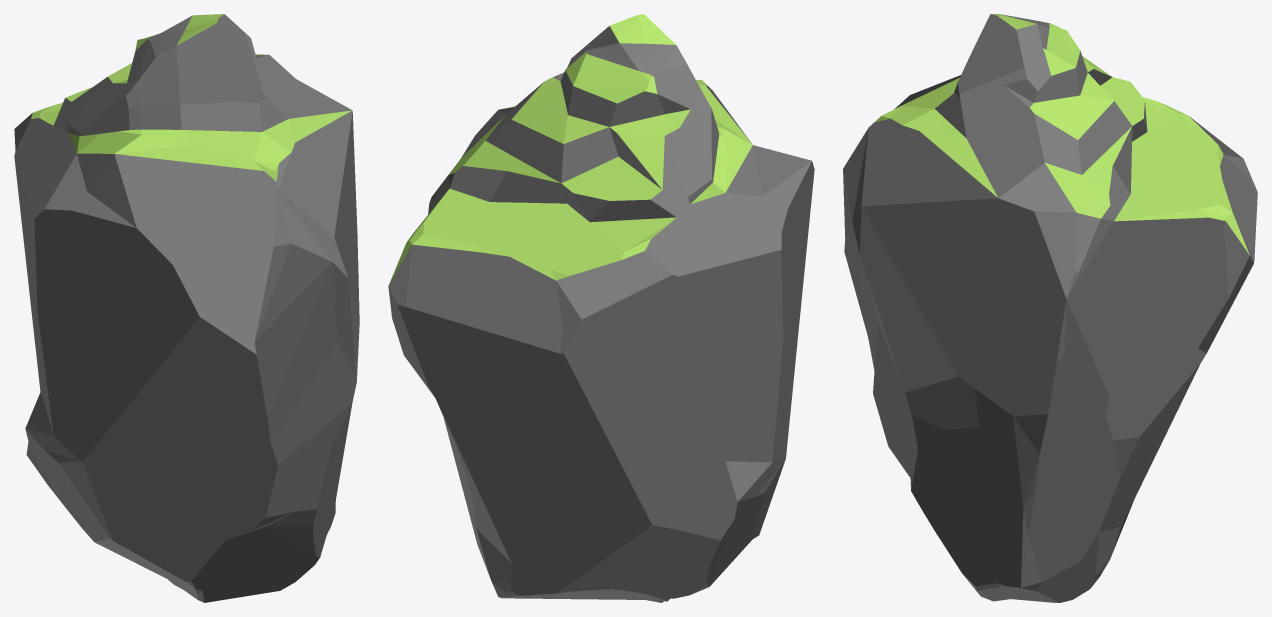
The model's file is floating_stone 3.fbx.
3 views of the same model, side by side, from view 1: azimuth 30°, elevation 25°; view 2: azimuth 150°, elevation 25°; view 3: azimuth 270°, elevation 25° (orthographic). The views are drawn at different scales.
Visible parts, largest first — view 1: fs 3; view 2: fs 3; view 3: fs 3.
Part boxes in pixels (x1=…): fs 3: x1=14, y1=14, x2=359, y2=602; fs 3: x1=388, y1=14, x2=814, y2=602; fs 3: x1=843, y1=14, x2=1257, y2=602.
Size of the model in its own units: 1513 by 2534 by 1705.
